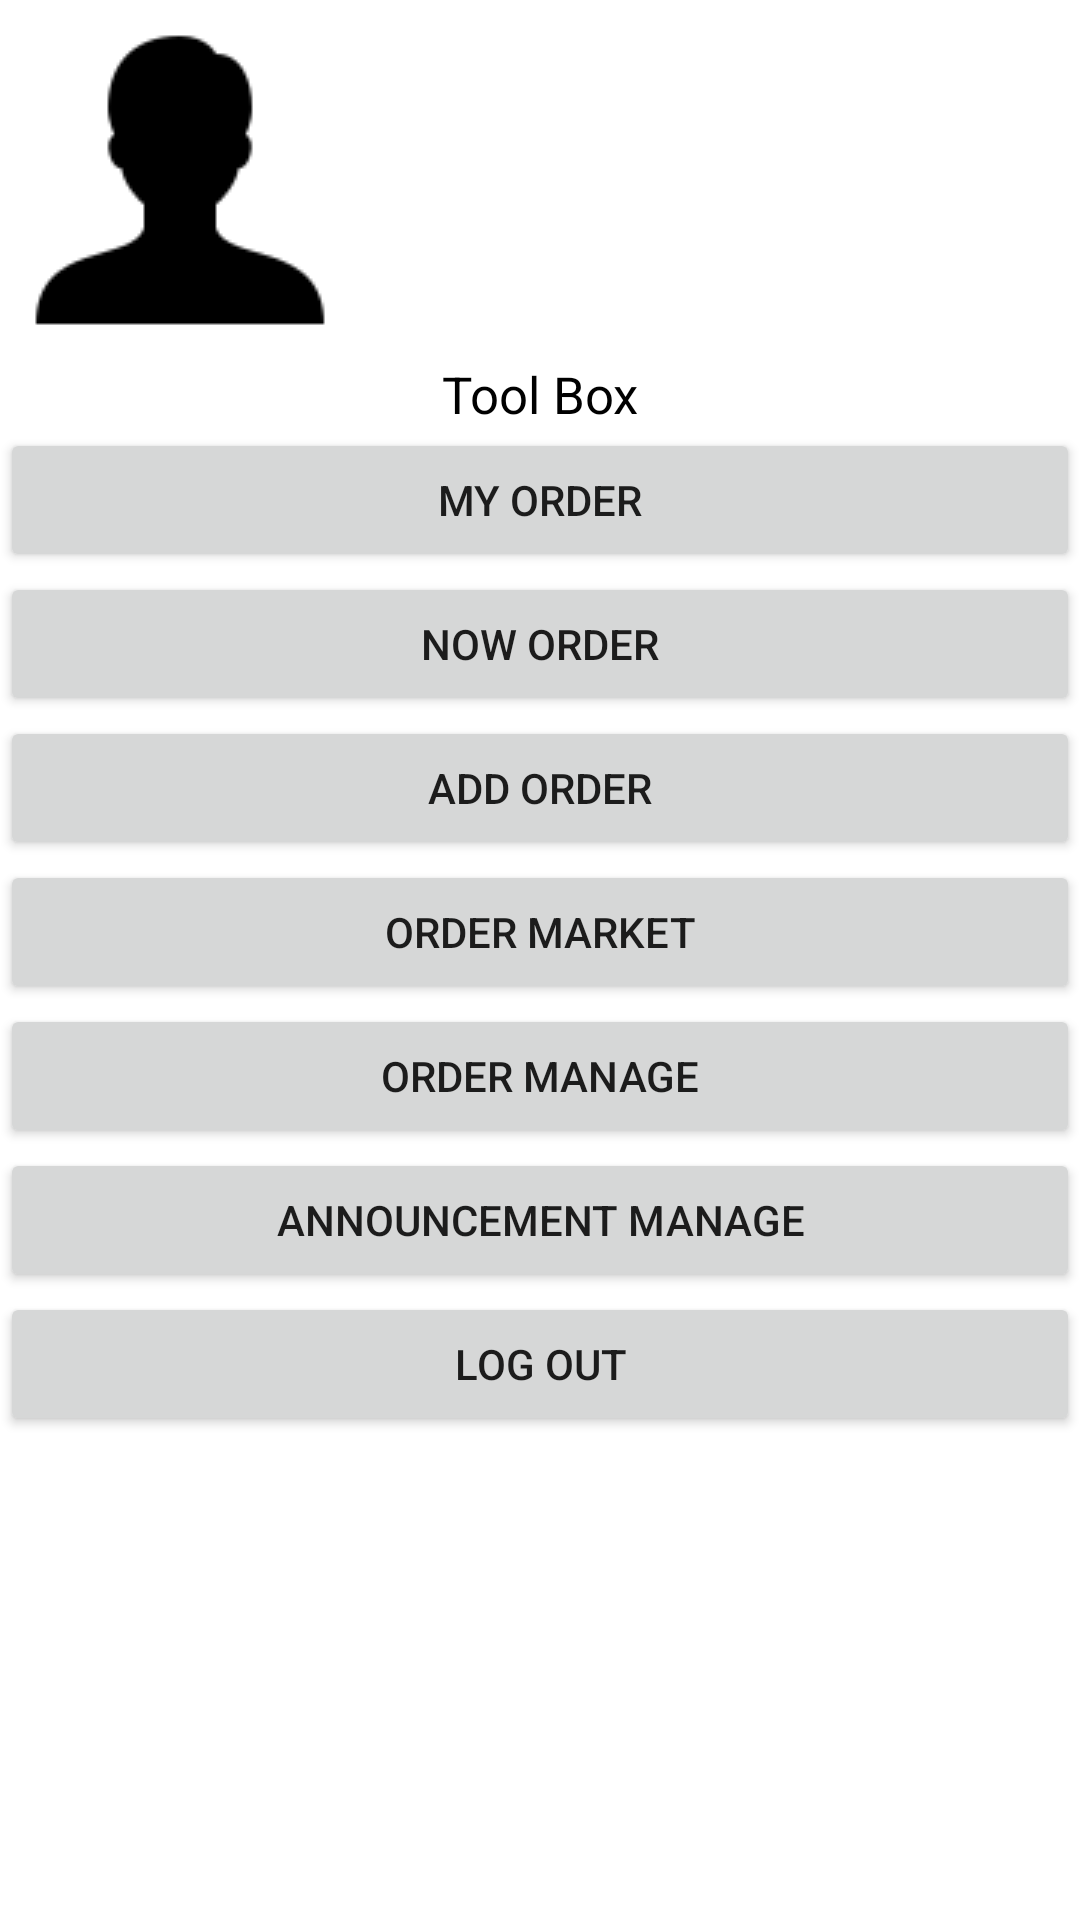

Screen size 1080 × 1920. Icon name, then its center in pixels as (x=x, y=y):
male: (x=180, y=180)
